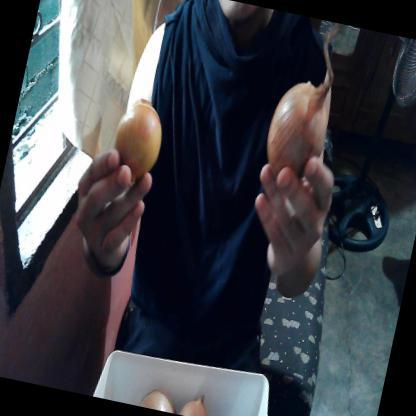onion: (252, 75, 340, 192), (100, 79, 160, 187)
